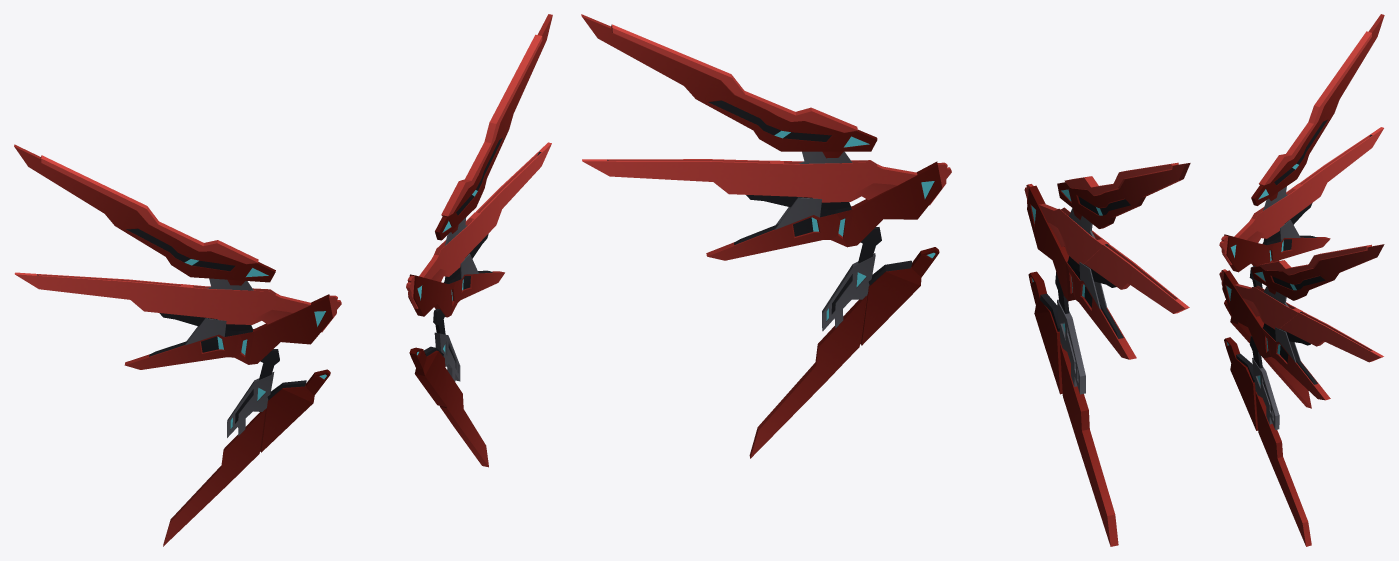
The model's file is Mecha_Wings_2.fbx.
3 renders of one model, left to right at view 1: azimuth 30°, elevation 25°; view 2: azimuth 150°, elevation 25°; view 3: azimuth 270°, elevation 25°, orthographic. The views are drawn at different scales.
Visible parts, largest first — view 1: Plane.032; view 2: Plane.032; view 3: Plane.032.
Part boxes in pixels (x1,y1,x2,y2): Plane.032: (14, 14, 552, 546); Plane.032: (581, 14, 1190, 546); Plane.032: (1219, 14, 1384, 546).
Size of the model in its own units: 9.35 by 6.55 by 2.83.
Materials: 1 (1 with a texture image).
